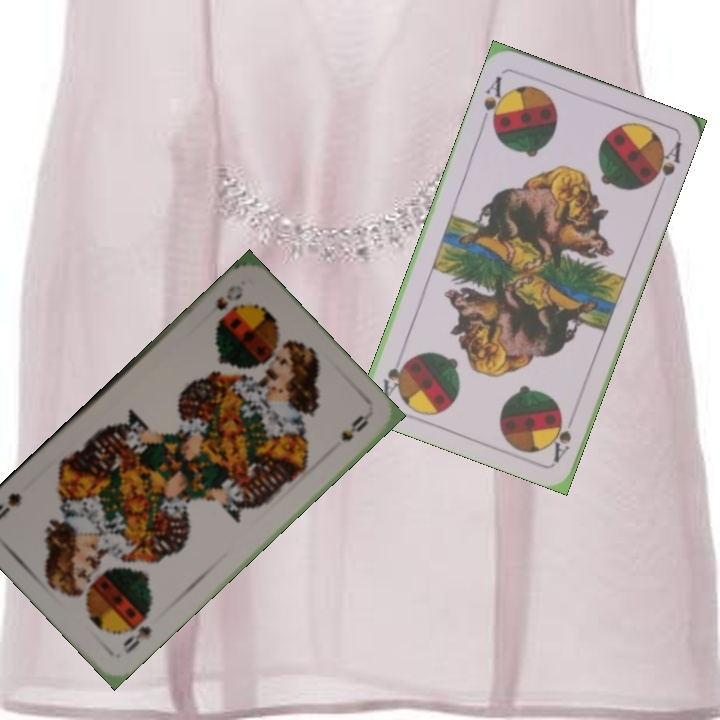SA: (477, 72, 510, 130), (549, 406, 579, 464)
SO: (211, 280, 246, 327), (118, 621, 154, 656)
